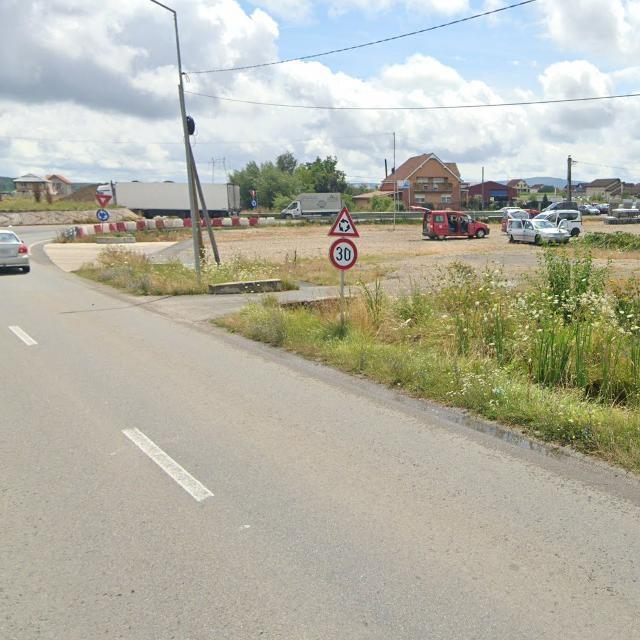forb_speed_over_30: (330, 238, 358, 269)
prio_give_way: (95, 194, 112, 209)
